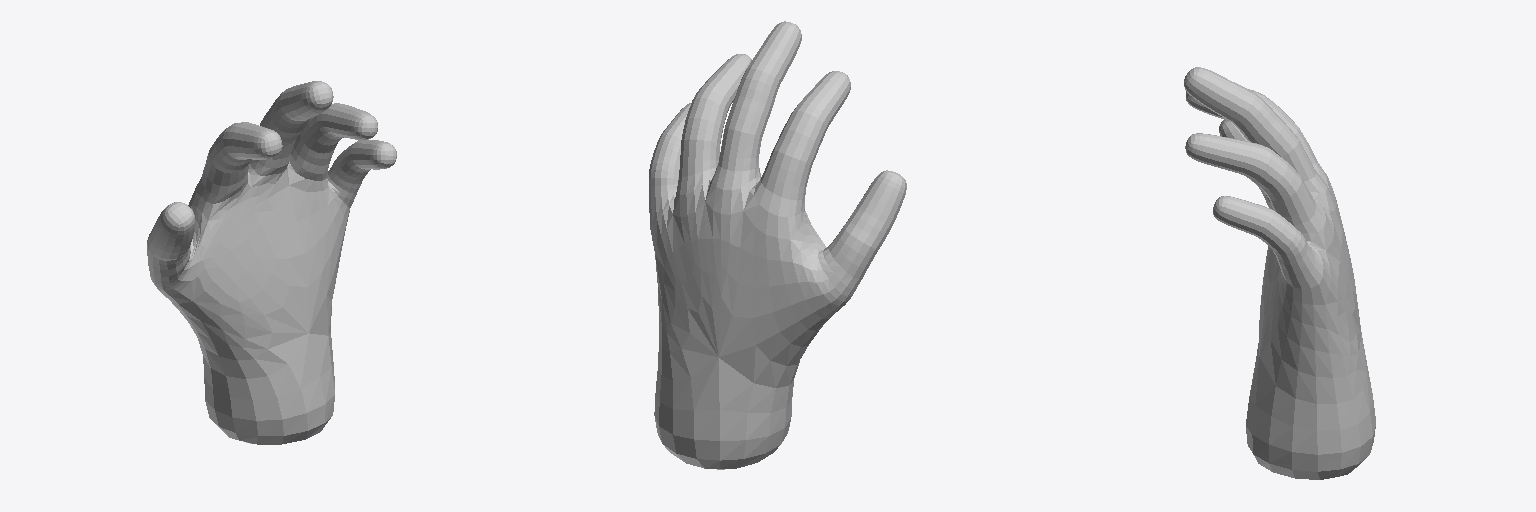
Rendered from handanimatsion17.obj.
3 renders of one model, left to right at view 1: azimuth 30°, elevation 25°; view 2: azimuth 150°, elevation 25°; view 3: azimuth 270°, elevation 25°, orthographic.
Visible parts, largest first — view 1: Cube; view 2: Cube; view 3: Cube.
Boxes of the visible parts, x1,y1,x2,y2 form: Cube: [147, 81, 396, 444]; Cube: [649, 21, 906, 469]; Cube: [1184, 67, 1375, 479].
Bounding box in the file's own units: 3.59 × 5.9 × 2.6.